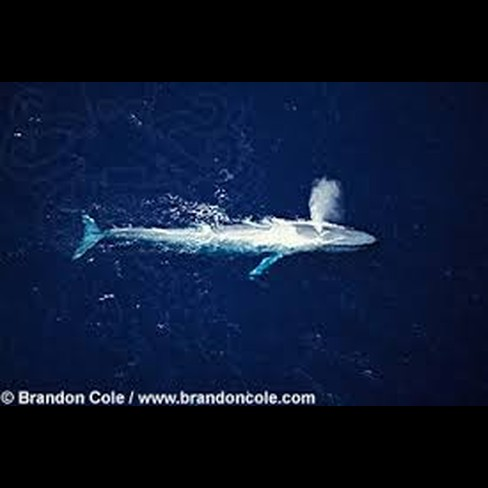bluewhale: (71, 206, 379, 287)
